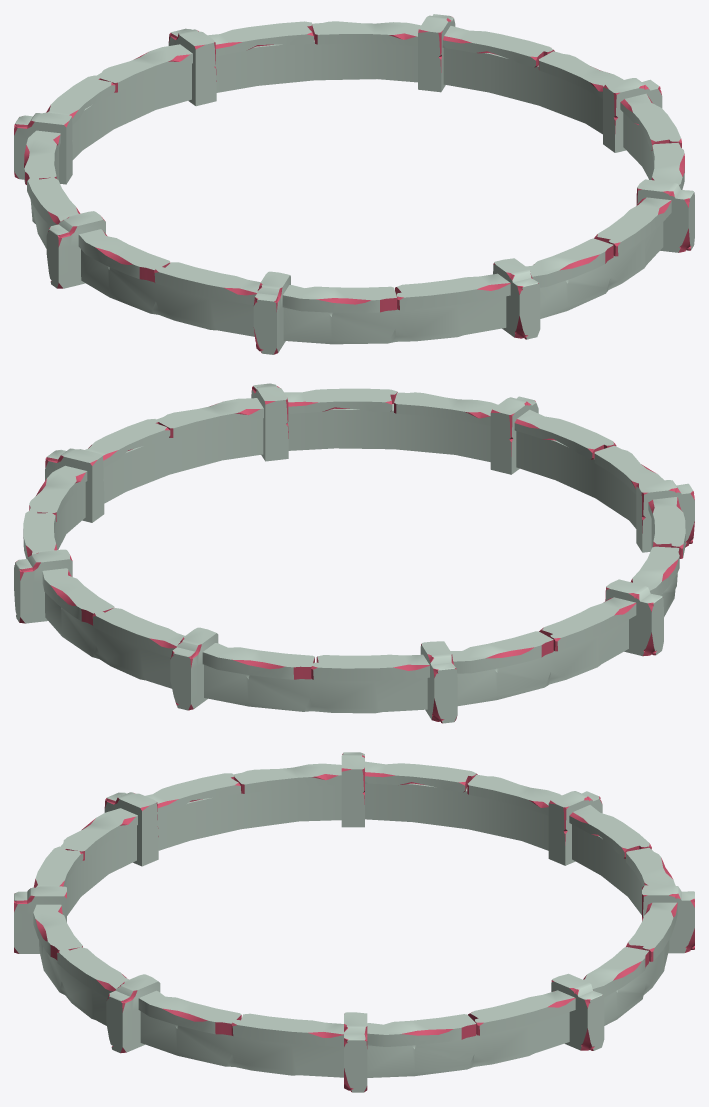
The model's file is Struct_Roundabout_A.fbx.
The picture shows the model from 3 angles, top to bottom: view 1: azimuth 30°, elevation 25°; view 2: azimuth 150°, elevation 25°; view 3: azimuth 270°, elevation 25°; orthographic projection. The views are drawn at different scales.
Visible parts, largest first — view 1: Struct_Roundabout_A; view 2: Struct_Roundabout_A; view 3: Struct_Roundabout_A.
Part boxes in pixels (box(x1,y1,x2,y2)): Struct_Roundabout_A: box(14, 14, 694, 354); Struct_Roundabout_A: box(14, 383, 694, 723); Struct_Roundabout_A: box(14, 752, 694, 1092).
Bounding box in the file's own units: 11.89 × 1.11 × 11.89.
